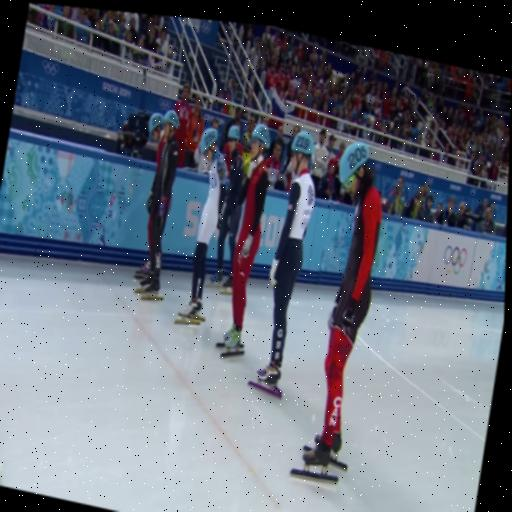Skater: (291, 143, 381, 483), (248, 131, 314, 398), (217, 125, 270, 357), (175, 129, 227, 324), (141, 111, 179, 300), (209, 126, 244, 288), (134, 113, 165, 279)
